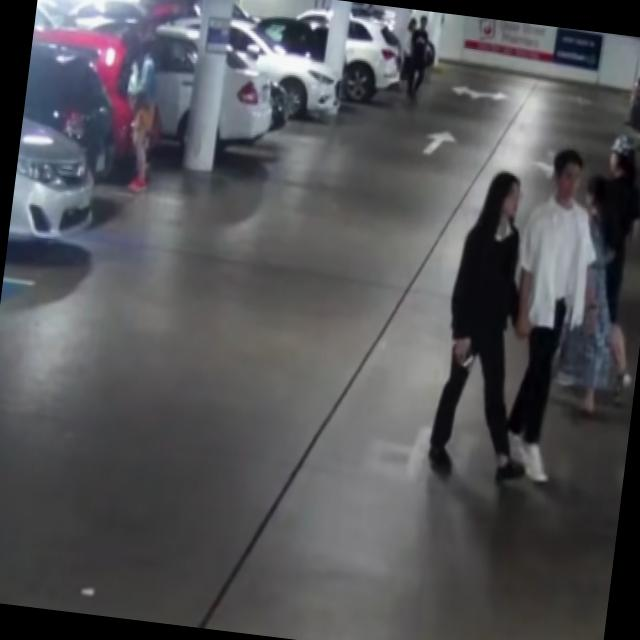person: (426, 162, 560, 481), (490, 140, 613, 478), (546, 170, 640, 418), (559, 129, 640, 400)
